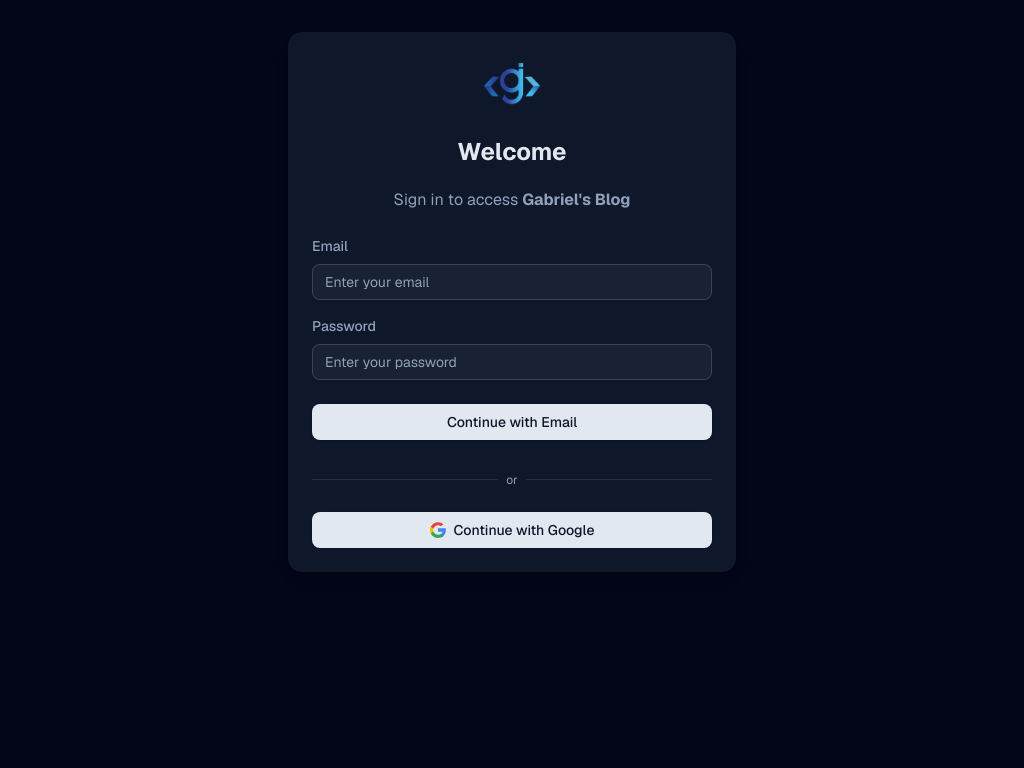
LoginPage › shows error modal if signInWithPopup fails
Click the button with aria-label "Sign in or Sign up with Google": [512, 530] box [312, 512, 712, 548]
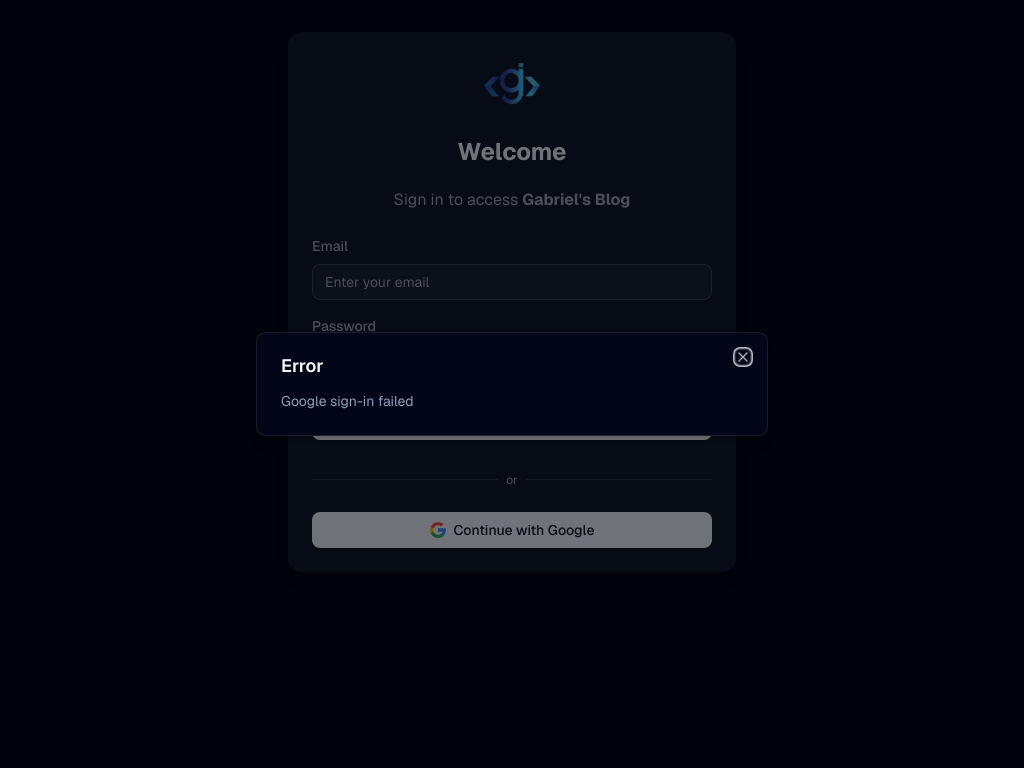
Expected: the text "Google sign-in failed" is shown, [281, 392, 414, 410]
